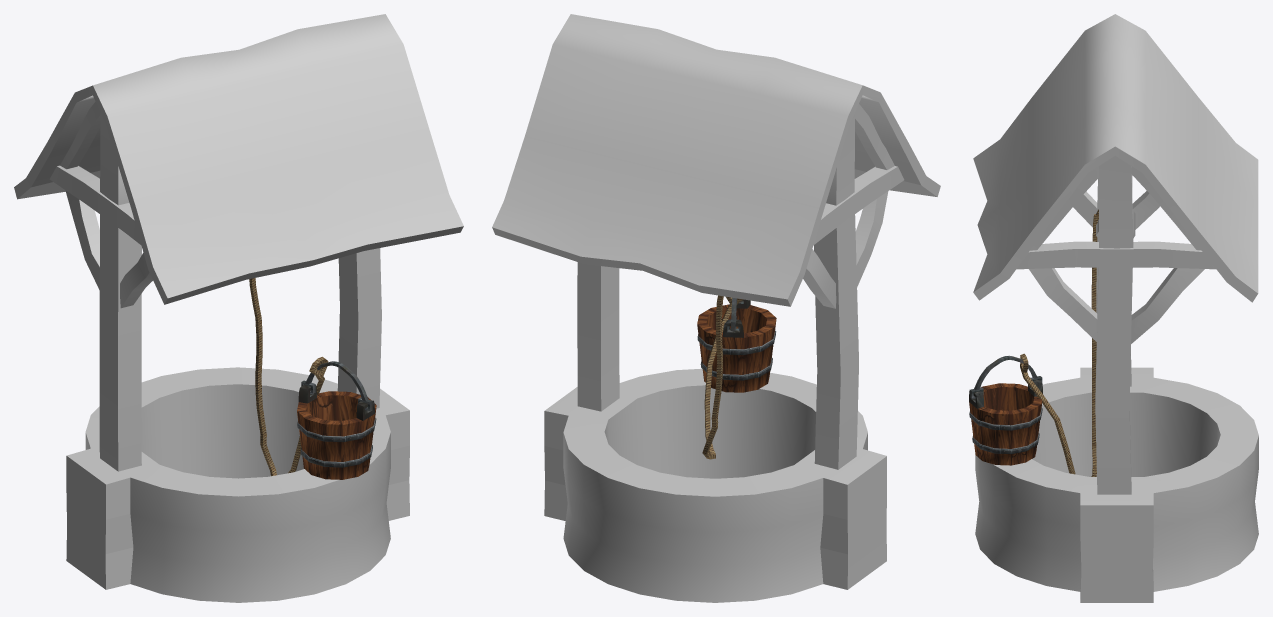
Rendered from Well_Complete.FBX.fbx.
3 renders of one model, left to right at view 1: azimuth 30°, elevation 25°; view 2: azimuth 150°, elevation 25°; view 3: azimuth 270°, elevation 25°, orthographic. The views are drawn at different scales.
Parts seen in each view (by area): view 1: Cylinder001, Cylinder003, Line001; view 2: Cylinder001, Cylinder003, Line001; view 3: Cylinder001, Cylinder003, Line001.
Boxes of the visible parts, x1,y1,x2,y2 form: Cylinder001: [14, 14, 463, 602]; Cylinder003: [297, 361, 376, 479]; Line001: [249, 278, 328, 476]; Cylinder001: [492, 14, 940, 602]; Cylinder003: [697, 297, 776, 392]; Line001: [702, 295, 743, 459]; Cylinder001: [973, 14, 1258, 602]; Cylinder003: [969, 355, 1042, 465]; Line001: [1020, 209, 1098, 476].
Bounding box in the file's own units: 135 × 210 × 120.
